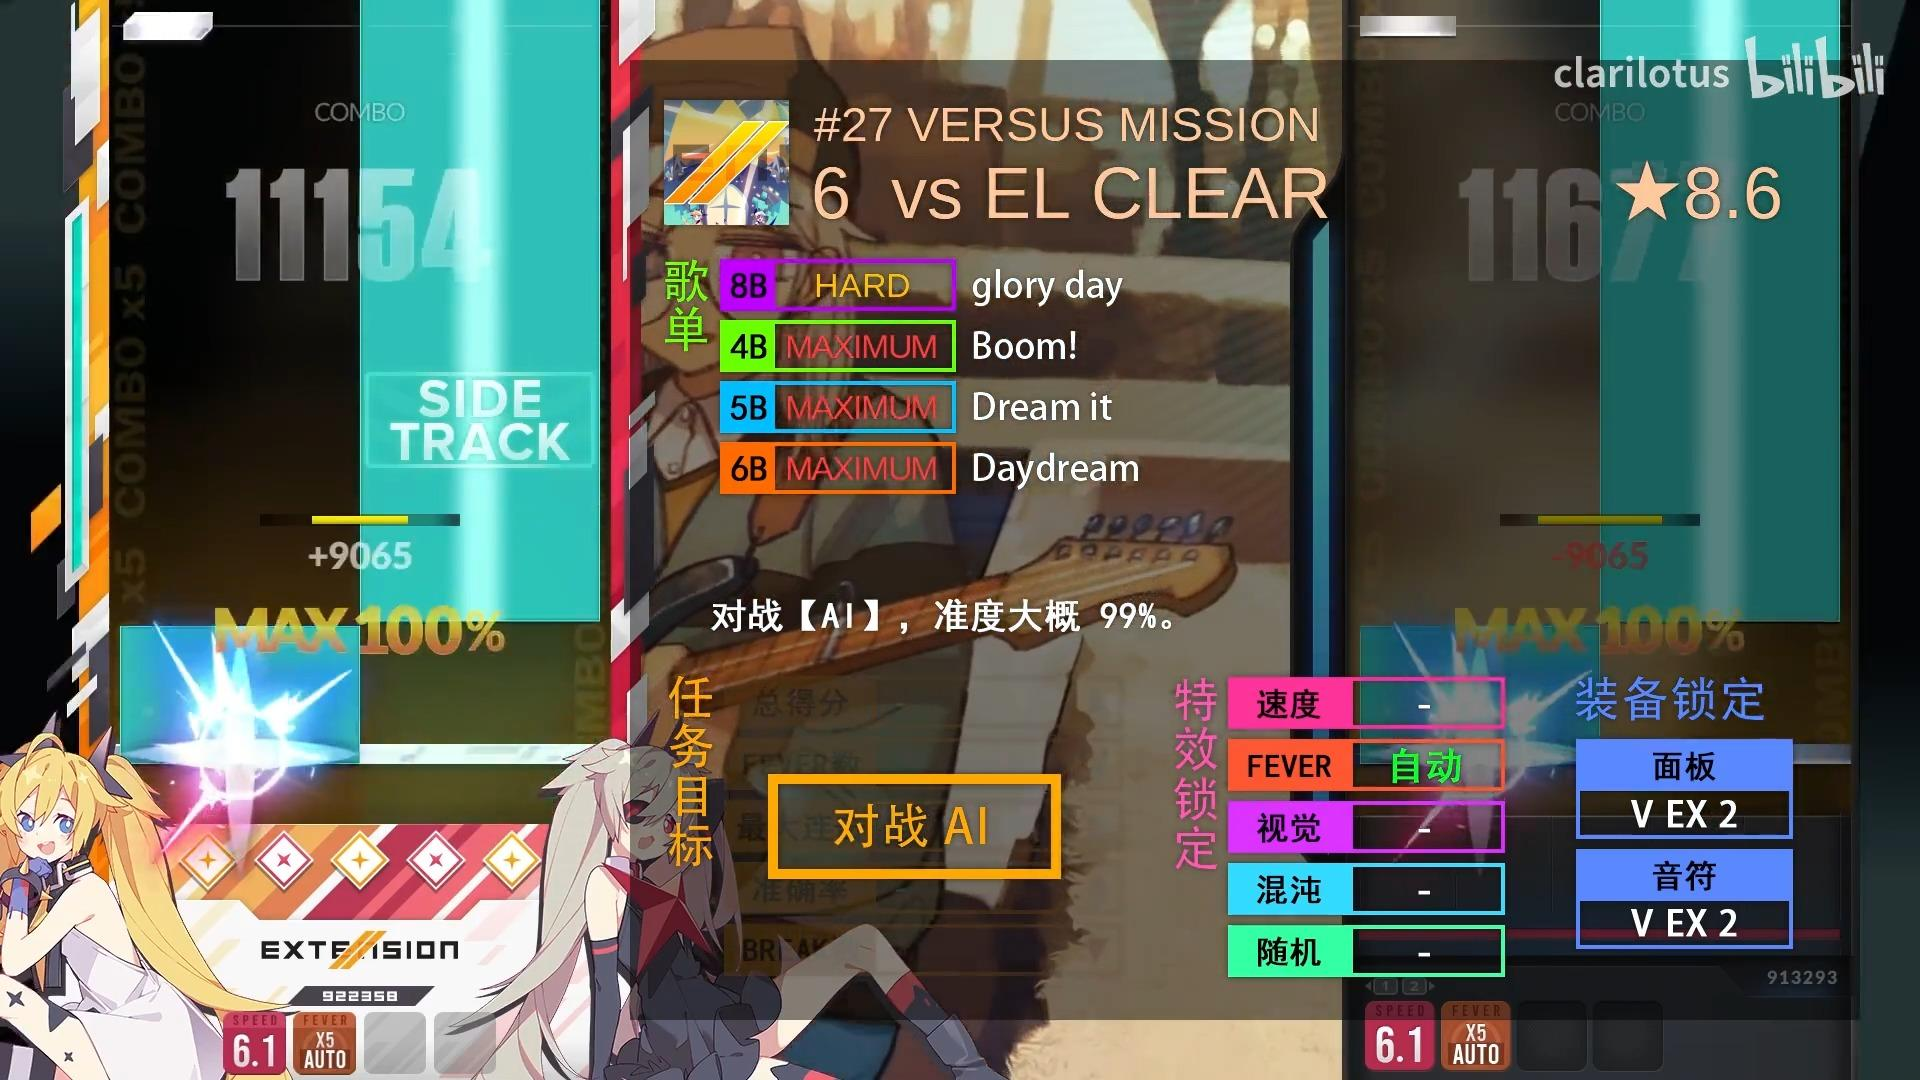note: (123, 12, 212, 42)
side-end: (119, 625, 360, 651)
side-start: (360, 593, 601, 622)
